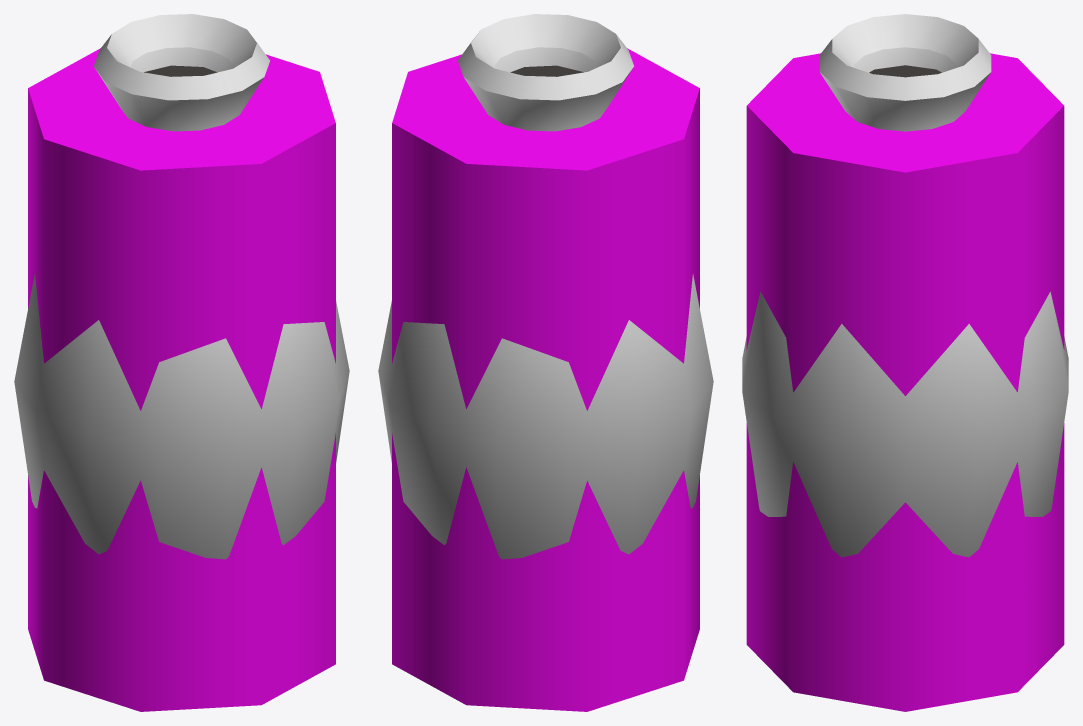
The model's file is urn_tall.glb.
The picture shows the model from 3 angles, left to right: view 1: azimuth 30°, elevation 25°; view 2: azimuth 150°, elevation 25°; view 3: azimuth 270°, elevation 25°; orthographic projection.
Visible parts, largest first — view 1: urn_tall_hull, urn_tall; view 2: urn_tall_hull, urn_tall; view 3: urn_tall_hull, urn_tall.
Part boxes in pixels (<box>): urn_tall_hull: <box>28,48,335,711</box>; urn_tall: <box>14,14,349,559</box>; urn_tall_hull: <box>392,48,699,711</box>; urn_tall: <box>378,14,713,559</box>; urn_tall_hull: <box>746,53,1064,711</box>; urn_tall: <box>742,14,1068,557</box>.
Size of the model in its own units: 0.76 by 1.5 by 0.741.
